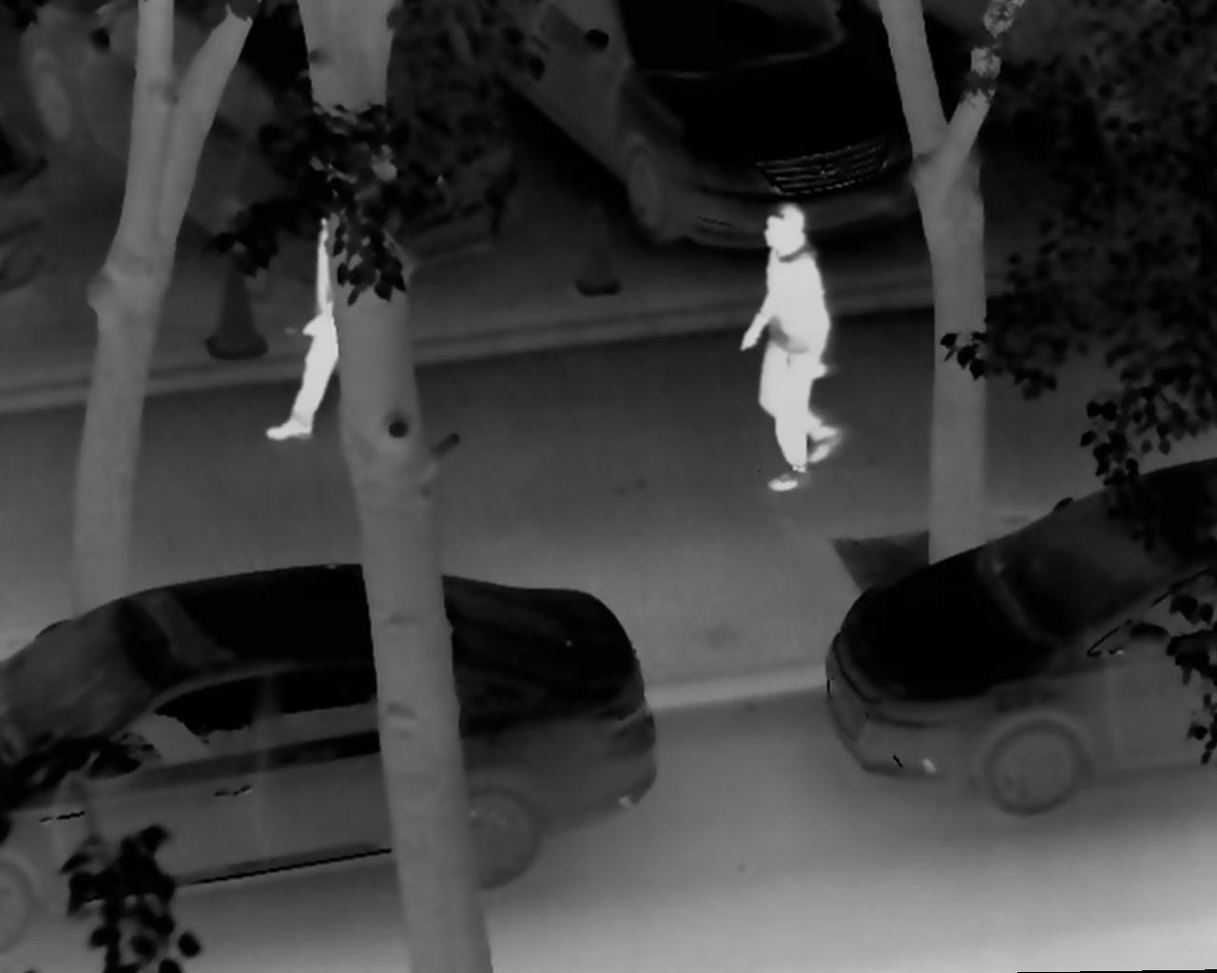person: (717, 200, 845, 503), (262, 196, 389, 447)
